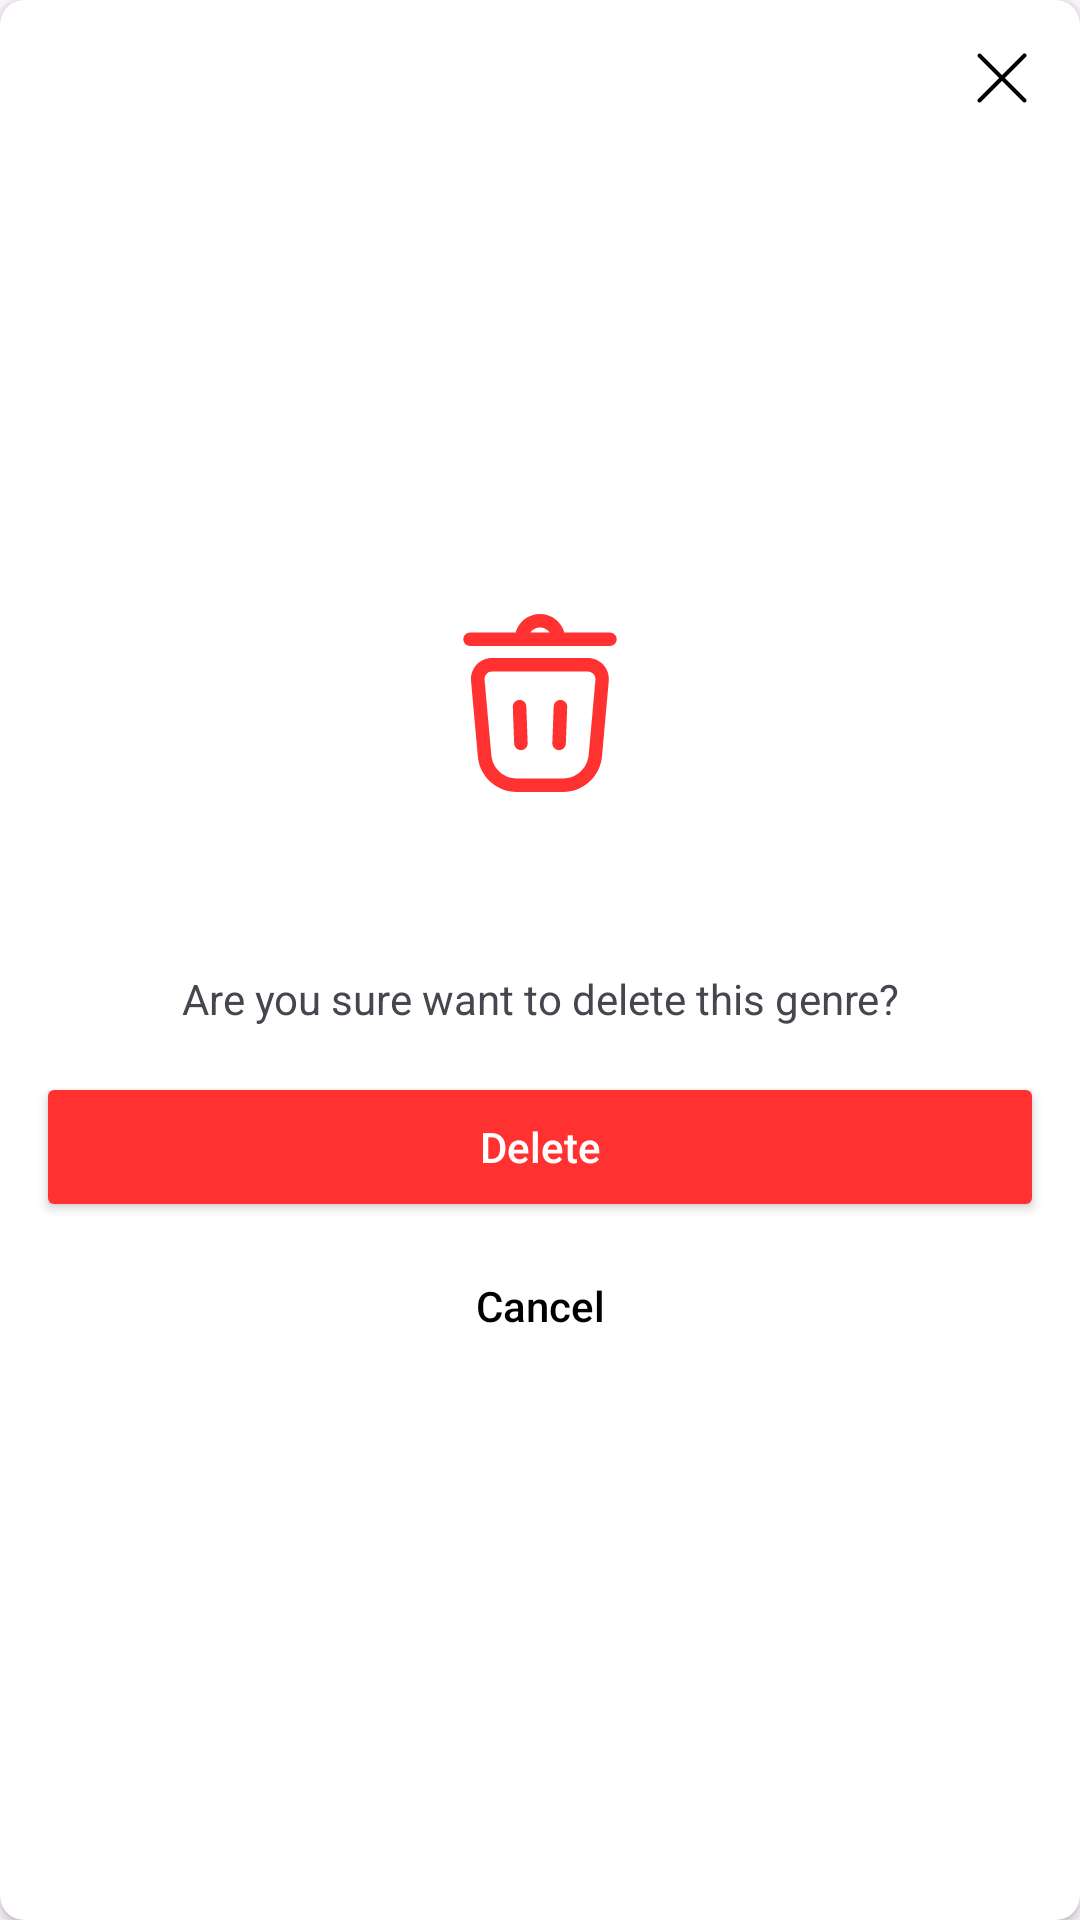

Point at icon controls on the screen. Image size 1080*1920, points as [x,y].
cross close: [1002,78]
delete: [540,703]
